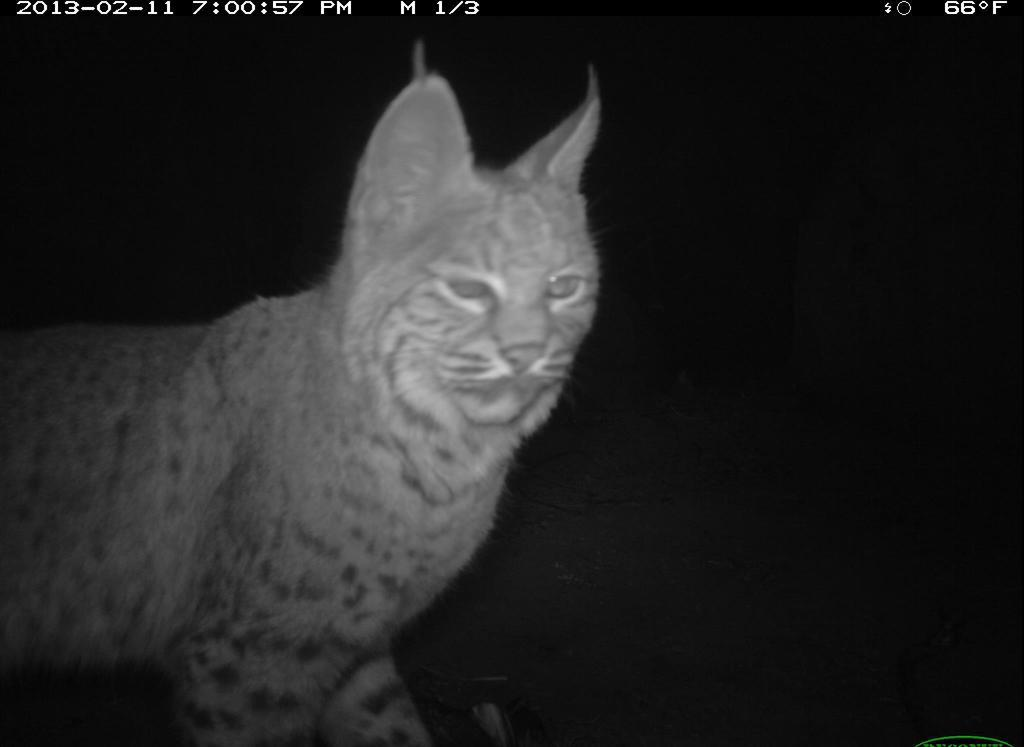bobcat: (3, 62, 625, 742)
